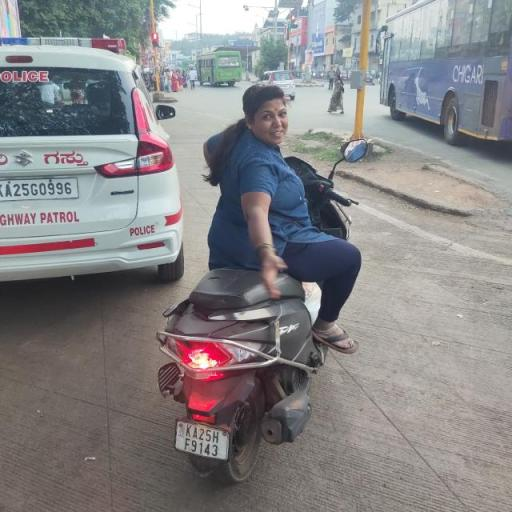bike: (158, 80, 374, 469)
numberplate: (169, 418, 234, 468)
withouthelmet: (244, 85, 288, 142)
